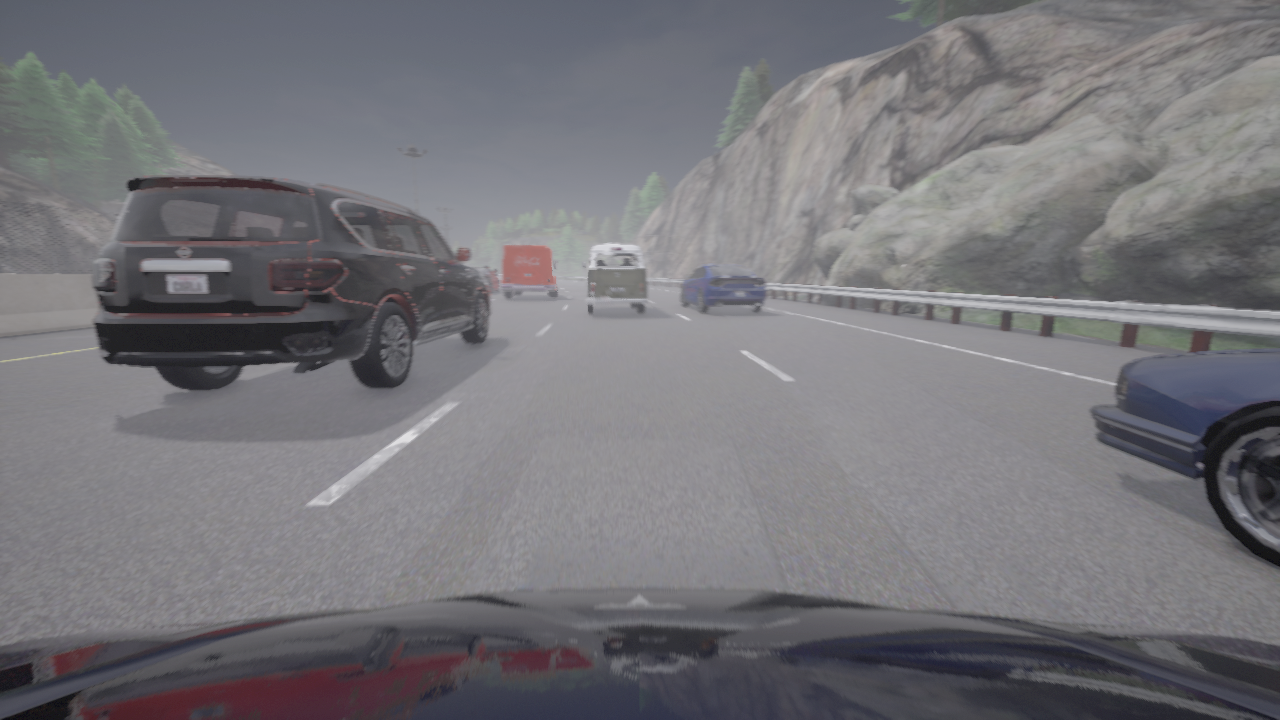cyclist: (0, 588, 1279, 719), (92, 176, 490, 390), (1089, 349, 1279, 567), (582, 244, 647, 314), (681, 263, 765, 312), (502, 246, 558, 298), (473, 266, 498, 293)
